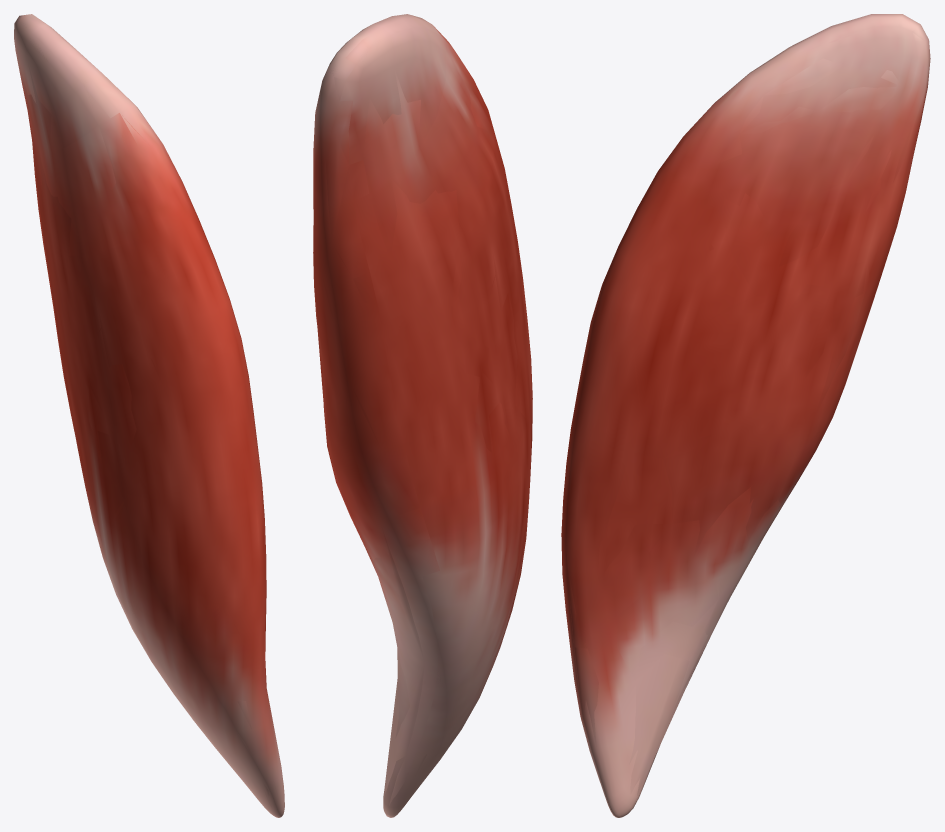
The model's file is L Gracillis.fbx.
3 views of the same model, side by side, from view 1: azimuth 30°, elevation 25°; view 2: azimuth 150°, elevation 25°; view 3: azimuth 270°, elevation 25° (orthographic). The views are drawn at different scales.
Visible parts, largest first — view 1: L Gracillis, L Gracillis low; view 2: L Gracillis, L Gracillis low; view 3: L Gracillis, L Gracillis low.
Part boxes in pixels (x1=…): L Gracillis: x1=14, y1=14, x2=284, y2=817; L Gracillis low: x1=14, y1=15, x2=279, y2=813; L Gracillis: x1=313, y1=14, x2=532, y2=817; L Gracillis low: x1=313, y1=15, x2=528, y2=809; L Gracillis: x1=561, y1=14, x2=930, y2=817; L Gracillis low: x1=566, y1=14, x2=927, y2=795.
Size of the model in its own units: 8.21 by 42.38 by 19.
